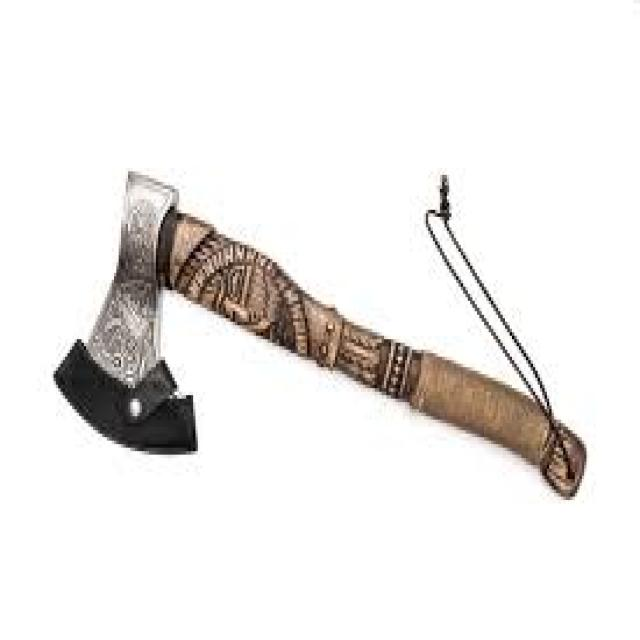Gun: (43, 145, 594, 532)
